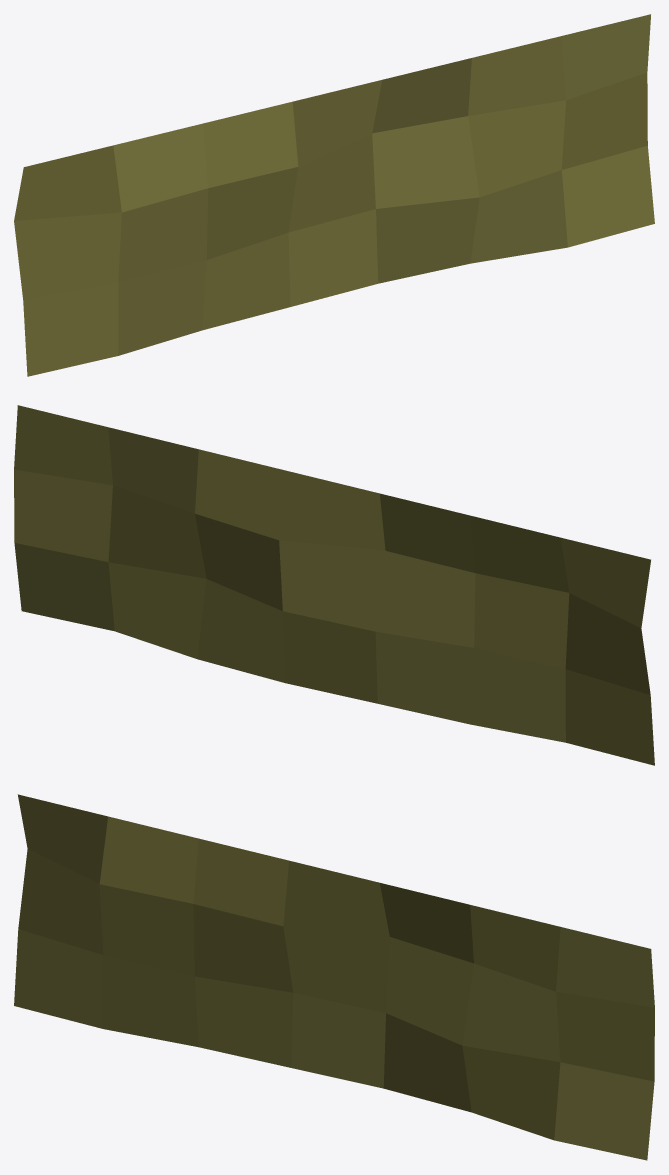
The model's file is enchantedforest_moss_half_1.fbx.
3 views of the same model, one above another, from view 1: azimuth 30°, elevation 25°; view 2: azimuth 150°, elevation 25°; view 3: azimuth 330°, elevation 25° (orthographic).
Visible parts, largest first — view 1: Plane.008; view 2: Plane.008; view 3: Plane.008.
Boxes of the visible parts, left/top/right/bottom form: Plane.008: left=14, top=14, right=654, bottom=376; Plane.008: left=14, top=405, right=654, bottom=765; Plane.008: left=14, top=794, right=654, bottom=1160.
Bounding box in the file's own units: 3 × 0.9452 × 0.1536.
